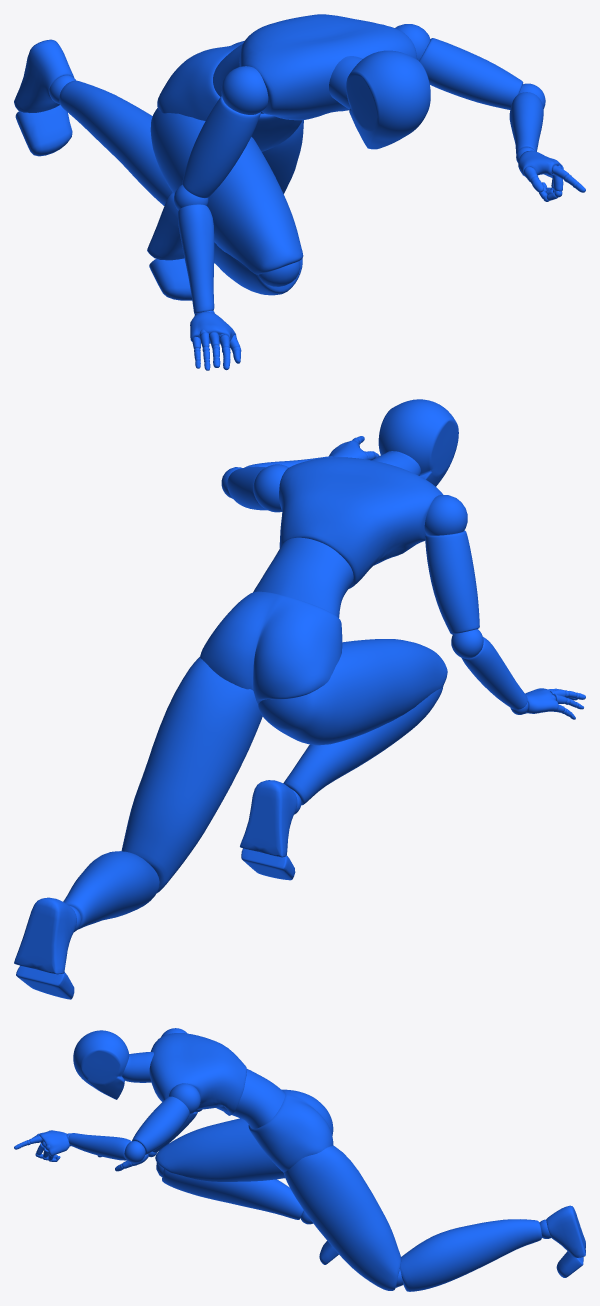
The model's file is GoddesSignCrouchSign.fbx.
3 renders of one model, top to bottom at view 1: azimuth 30°, elevation 25°; view 2: azimuth 150°, elevation 25°; view 3: azimuth 270°, elevation 25°, orthographic. The views are drawn at different scales.
Visible parts, largest first — view 1: Adjustable Mannequin Mesh; view 2: Adjustable Mannequin Mesh; view 3: Adjustable Mannequin Mesh.
Part boxes in pixels (x1,y1,x2,y2): Adjustable Mannequin Mesh: [14, 14, 585, 370]; Adjustable Mannequin Mesh: [14, 399, 585, 999]; Adjustable Mannequin Mesh: [14, 1028, 585, 1291].
Bounding box in the file's own units: 67.56 × 66.79 × 146.
